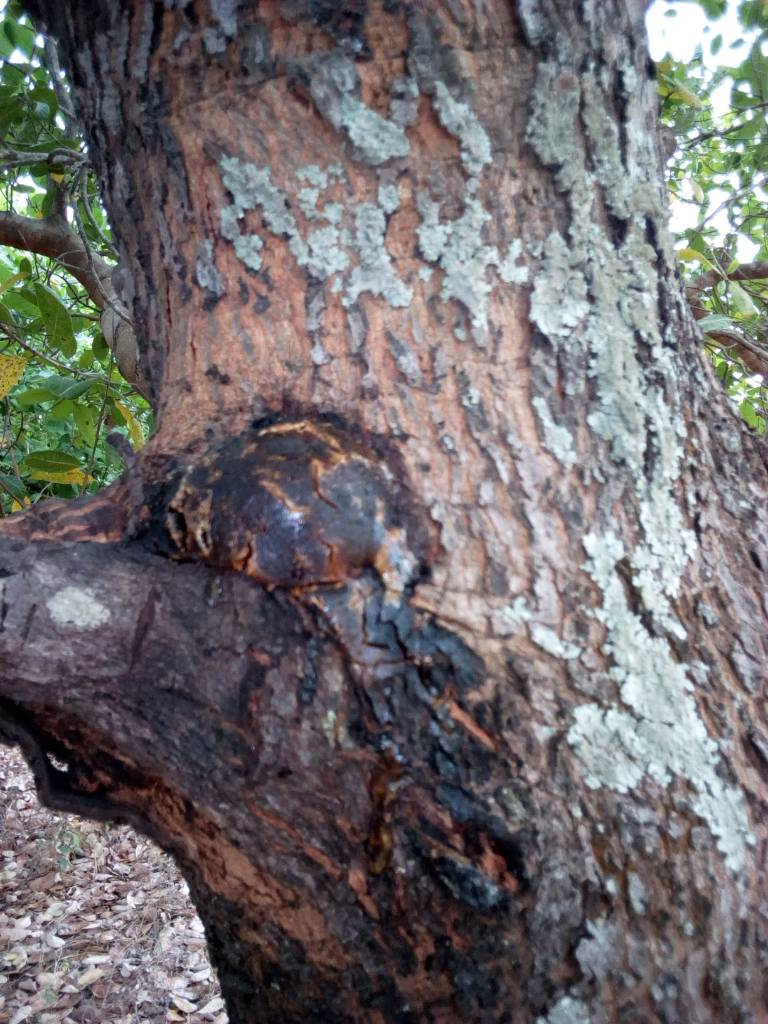Gommose: (163, 408, 510, 1019)
